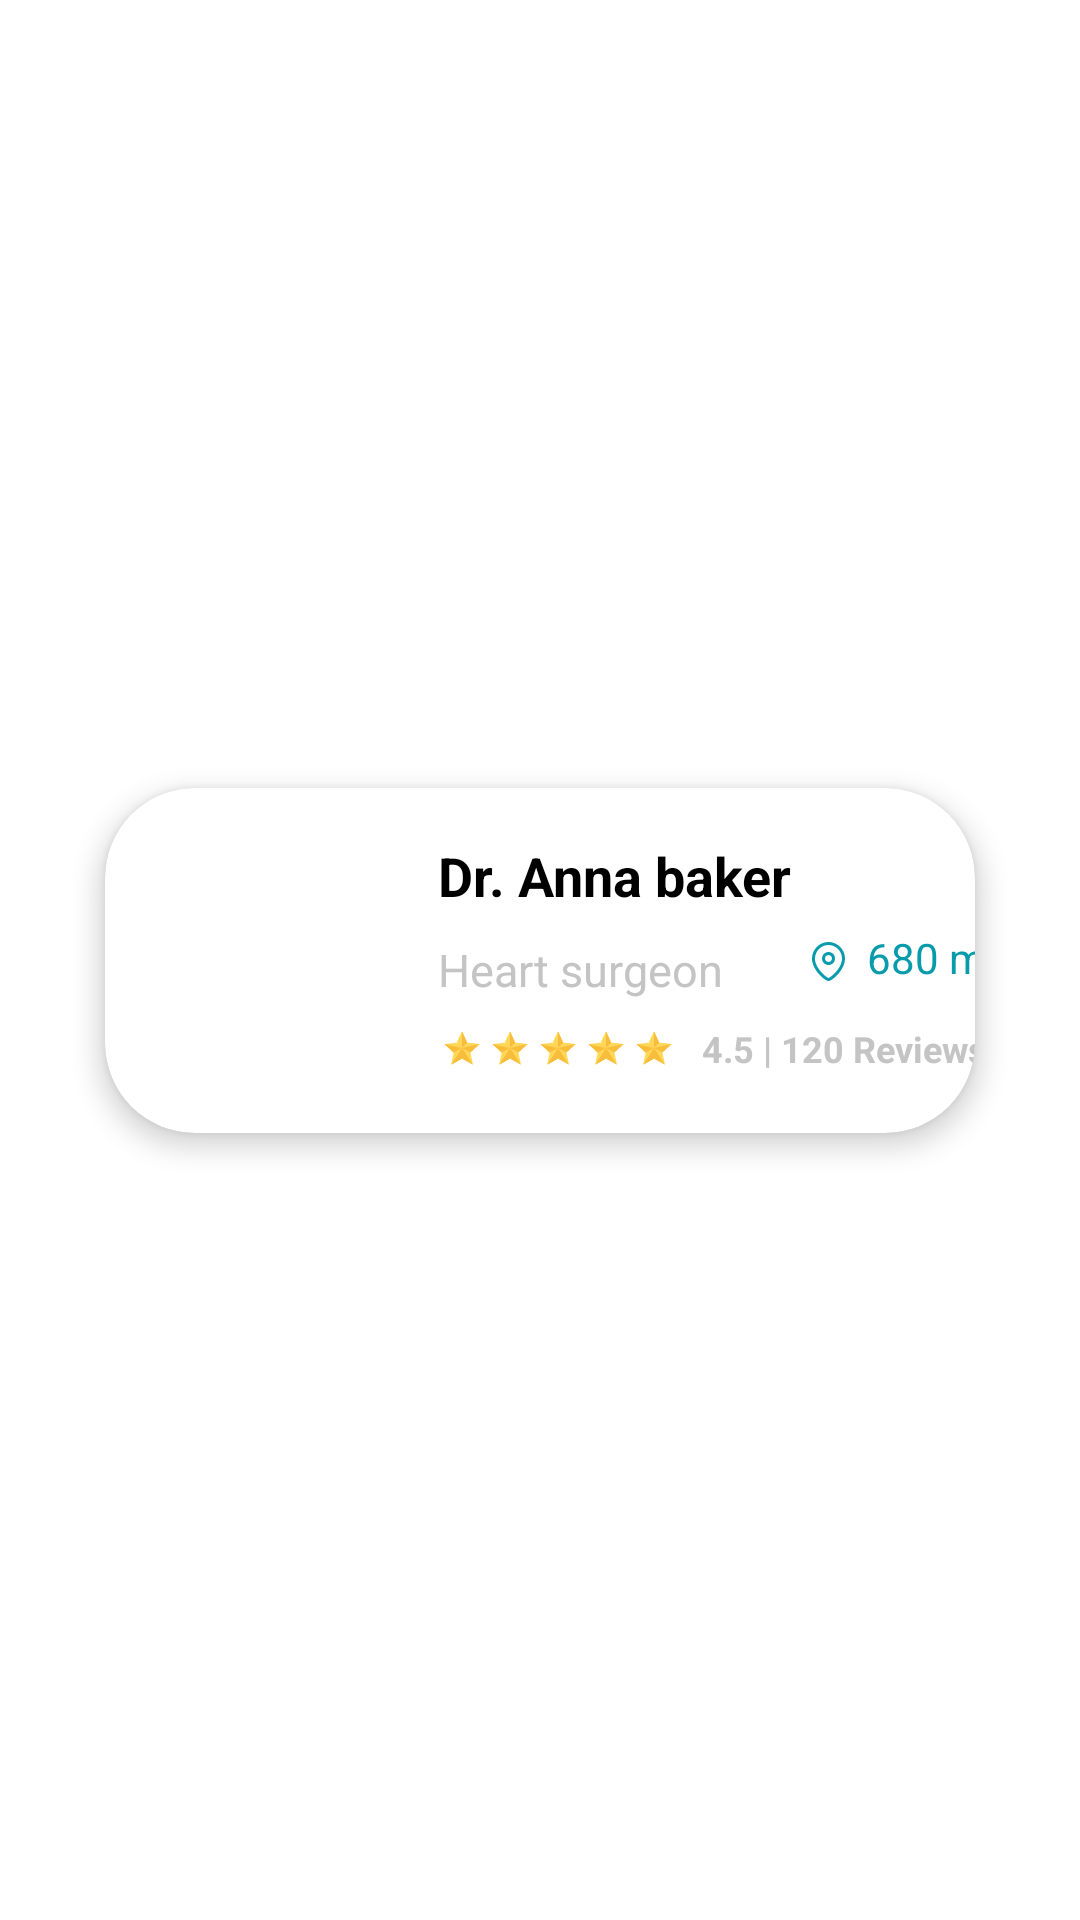

Point at icon controls on the screen. Image size 1080x1920, points as point (x, y).
doctors info location: point (828, 961)
rating star: point (462, 1048), point (510, 1048), point (558, 1048), point (606, 1048), point (654, 1048)
